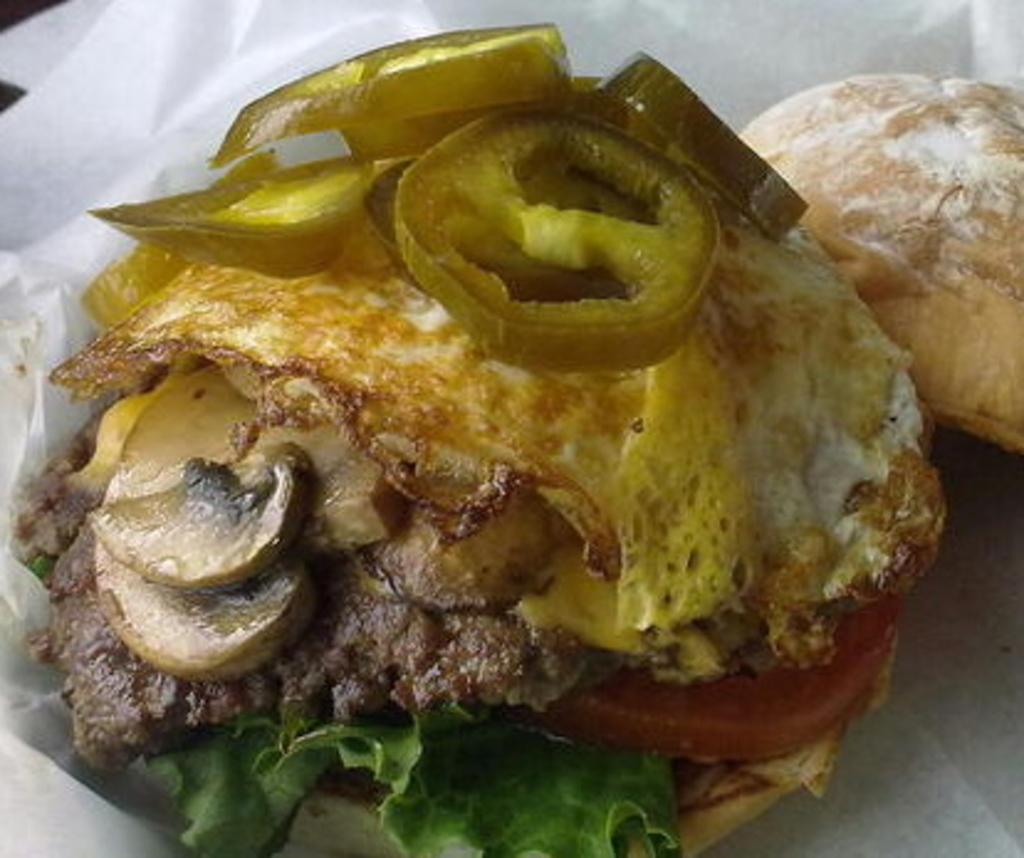Hamburger: (0, 22, 942, 855)
